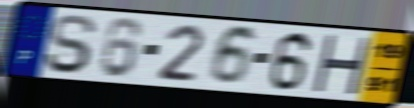2: (155, 22, 205, 84)
6: (205, 23, 262, 90), (268, 29, 315, 92), (98, 15, 143, 80)
H: (310, 32, 373, 97)
S: (41, 13, 99, 76)
